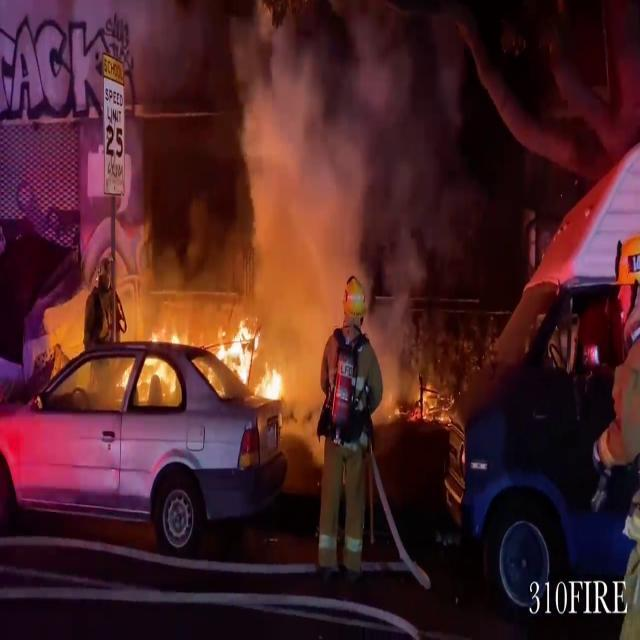Fire: (216, 313, 294, 407)
Smoke: (120, 1, 464, 367)
